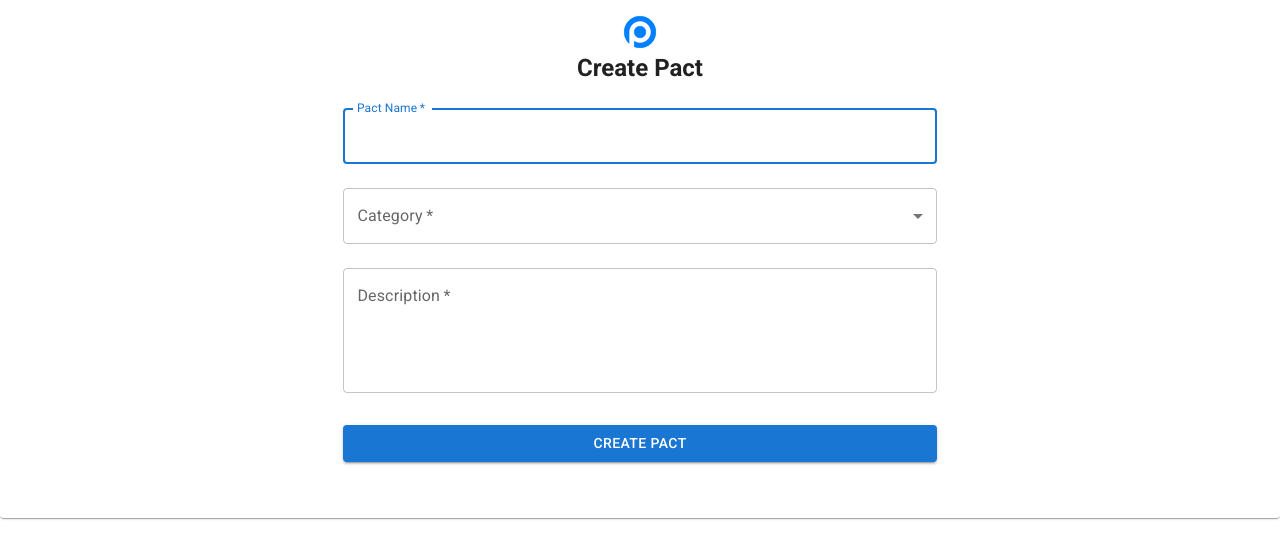
Scenario: CreatePact Tests › Check interaction with elements › should return error when invalid description is entered and Create Pact button is pressed with invalid input
Expected: the text "Provide the description" is not shown
What coordinates should you click on to do the following:
click the button "Create Pact"
I would click on:
 (640, 443)
Its box is [343,425,937,462].
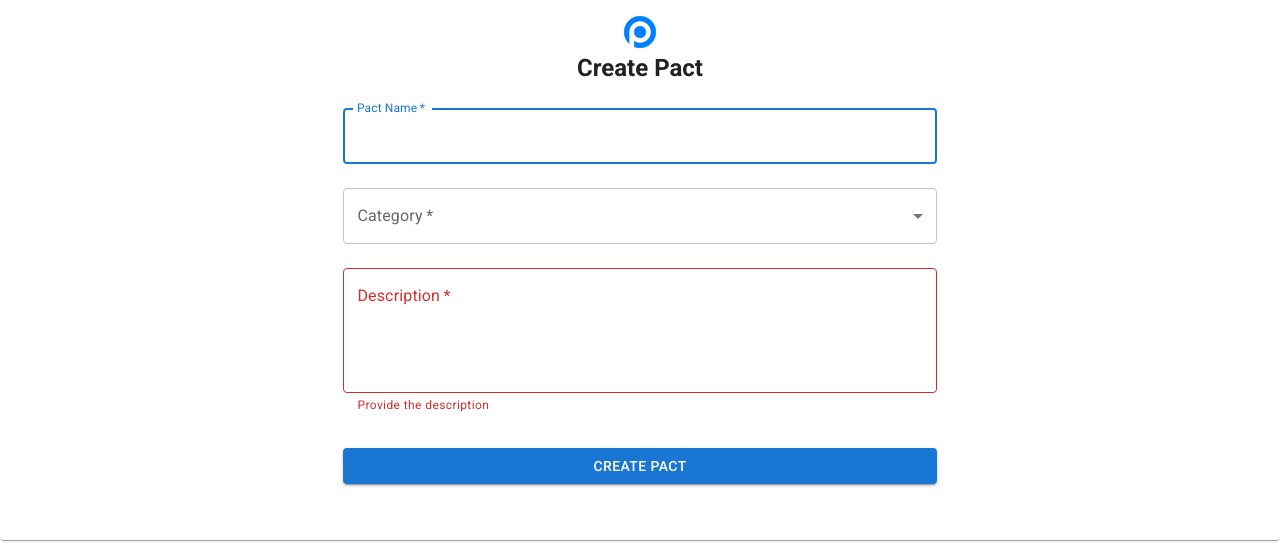
Result: the text "Provide the description" is shown at [357,398,489,412]
